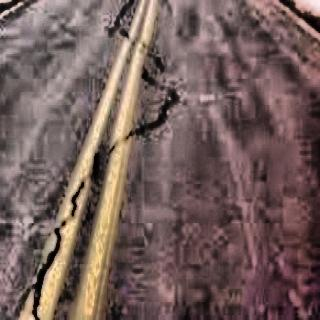alligator-crack: (16, 2, 184, 320)
